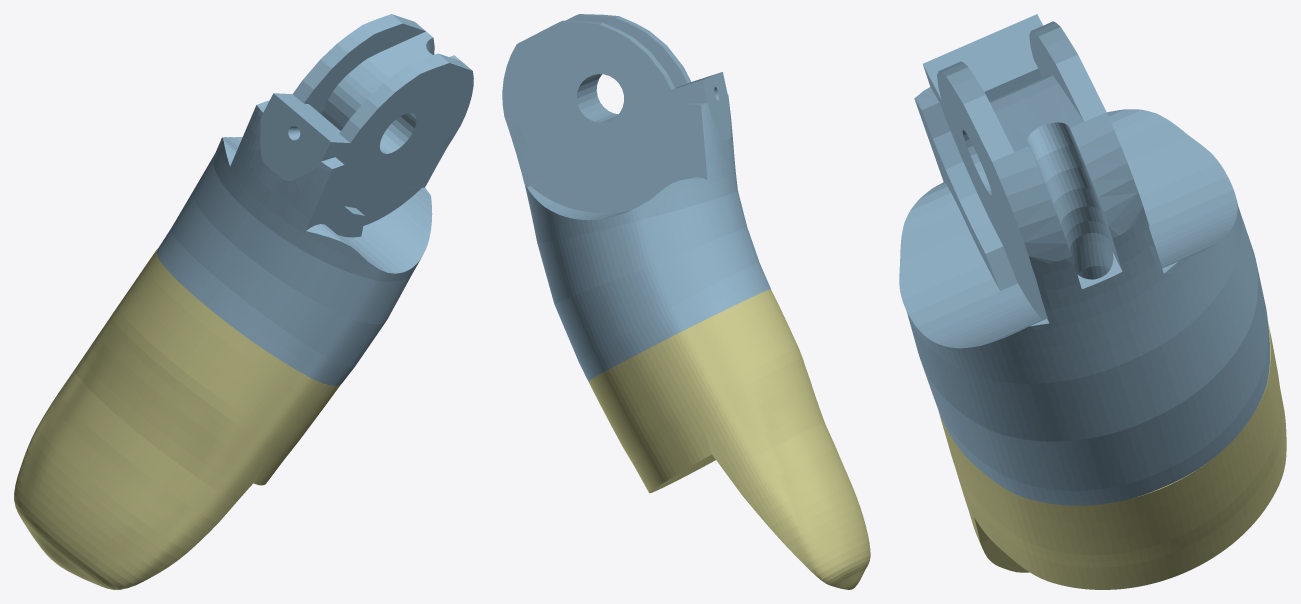
The model's file is i02_rightHand_ThumbTip_visual.obj.
3 renders of one model, left to right at view 1: azimuth 30°, elevation 25°; view 2: azimuth 150°, elevation 25°; view 3: azimuth 270°, elevation 25°, orthographic. The views are drawn at different scales.
Parts seen in each view (by area): view 1: i02_rightHand_ThumbTip_visual.001; view 2: i02_rightHand_ThumbTip_visual.001; view 3: i02_rightHand_ThumbTip_visual.001.
Part boxes in pixels (left/top/right/bottom): i02_rightHand_ThumbTip_visual.001: left=14, top=14, right=473, bottom=589; i02_rightHand_ThumbTip_visual.001: left=502, top=14, right=870, bottom=589; i02_rightHand_ThumbTip_visual.001: left=899, top=14, right=1286, bottom=589.
Bounding box in the file's own units: 0.3346 × 0.4094 × 0.1975.
